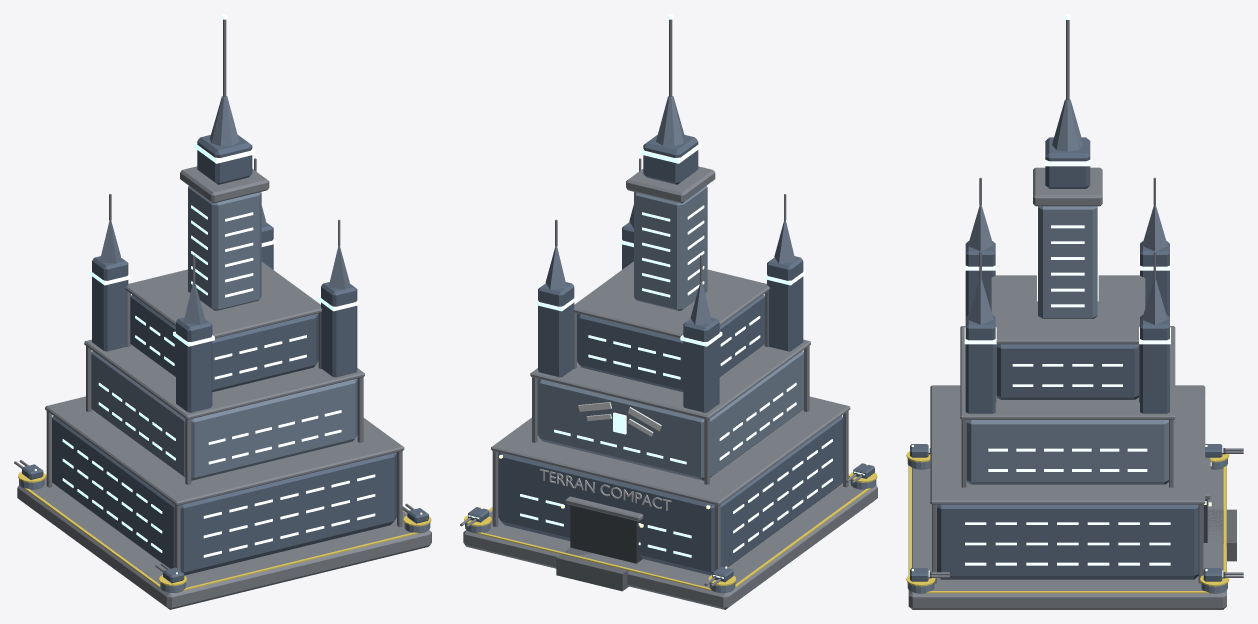
File: hall.glb
3 views of the same model, side by side, from view 1: azimuth 30°, elevation 25°; view 2: azimuth 150°, elevation 25°; view 3: azimuth 270°, elevation 25° (orthographic). The views are drawn at different scales.
Parts seen in each view (by area): view 1: hall, detail; view 2: hall, detail; view 3: hall, detail.
Part boxes in pixels (box(x1,y1,x2,y2)): hall: box(14, 19, 431, 609); detail: box(24, 14, 422, 591); hall: box(460, 19, 877, 609); detail: box(468, 14, 870, 590); hall: box(906, 20, 1243, 609); detail: box(909, 14, 1226, 593).
Size of the model in its own units: 64.85 by 117 by 67.74.
